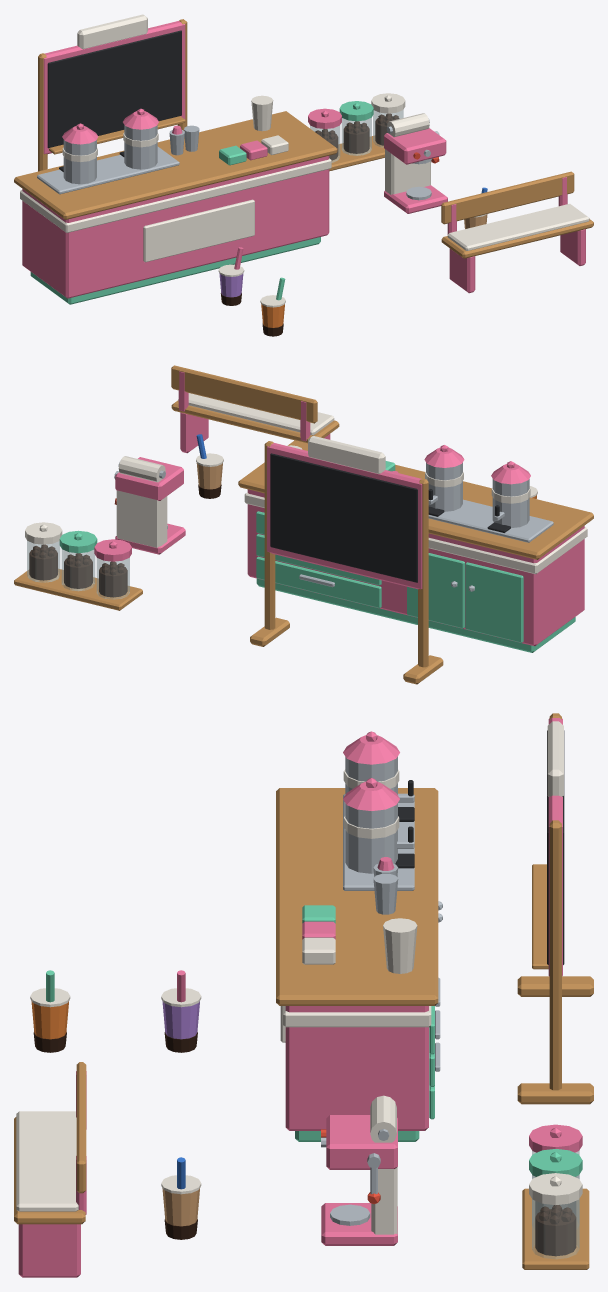
The model's file is bubble-tea-shop-set.glb.
3 views of the same model, one above another, from view 1: azimuth 30°, elevation 25°; view 2: azimuth 150°, elevation 25°; view 3: azimuth 270°, elevation 25° (orthographic). The views are drawn at different scales.
Visible parts, largest first — view 1: Counter_Body, Menu_Board, Counter_Top, Counter_FrontSign, Counter_Stripe, Bench_Cushion, Bench_Backrest, Counter_Kick, Menu_Frame, Brew_Tray, Sealer_Head, Menu_Topper (+23 smaller); view 2: Menu_Board, Counter_Body, Counter_Top, Door_L, Bench_Backrest, Menu_Frame, Door_R, Sealer_Column, Drawer_1, Counter_Kick, Counter_Stripe, Brew_Tray (+27 smaller); view 3: Counter_Top, Counter_Body, Bench_Cushion, Menu_Post_R, Bench_Leg_1, Sealer_Head, Jars_Tray, Jar_3_Glass, Brew_Urn_2, Counter_Stripe, Sealer_Base, Counter_CupStack (+23 smaller).
Boxes of the visible parts, x1,y1,x2,y2 form: Counter_Body: (22,156,329,298); Menu_Board: (47,30,181,148); Counter_Top: (14,111,337,219); Counter_FrontSign: (143,199,254,262); Counter_Stripe: (20,158,331,232); Bench_Cushion: (447,203,589,250); Bench_Backrest: (441,171,574,224); Counter_Kick: (30,237,320,304); Menu_Frame: (43,21,185,154); Brew_Tray: (37,146,179,194); Sealer_Head: (384,128,446,164); Menu_Topper: (77,14,147,49); Menu_Board: (270,453,417,582); Counter_Body: (247,489,584,646); Counter_Top: (238,440,593,559); Door_L: (465,562,523,642); Bench_Backrest: (171,365,317,423); Menu_Frame: (267,443,422,589); Door_R: (407,553,464,628); Sealer_Column: (116,490,167,547); Drawer_1: (256,556,381,608); Counter_Kick: (256,578,575,652); Counter_Stripe: (244,492,587,574); Brew_Tray: (428,499,553,542); Counter_Top: (276,788,438,1005); Counter_Body: (285,1006,428,1130); Bench_Cushion: (16,1111,78,1211); Menu_Post_R: (549,820,561,1090); Bench_Leg_1: (18,1224,80,1277); Sealer_Head: (326,1115,397,1169); Jars_Tray: (522,1188,589,1269); Jar_3_Glass: (532,1199,579,1258); Brew_Urn_2: (345,803,397,873); Counter_Stripe: (283,1006,431,1027); Sealer_Base: (321,1203,397,1245); Counter_CupStack: (383,918,417,973).
Bounding box in the file's own units: 16.96 × 6.95 × 12.13.
